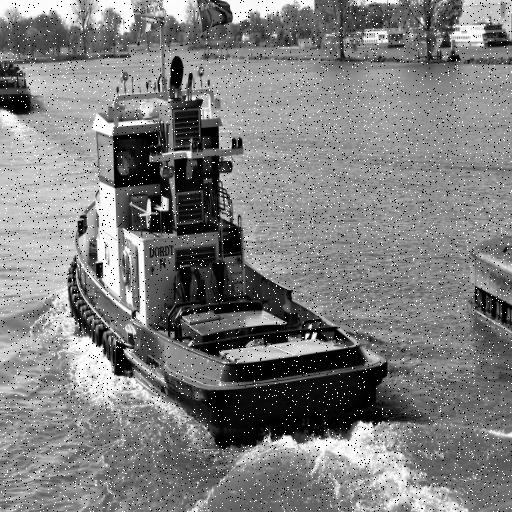tugboat: (65, 2, 393, 465)
